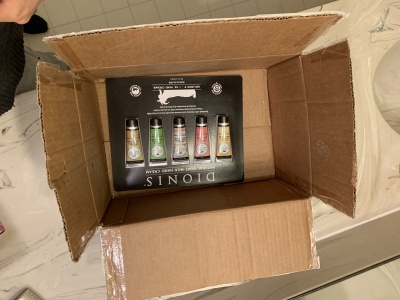innerbox: (83, 57, 304, 214)
outerbox: (44, 20, 351, 275)
product: (109, 77, 243, 186)
